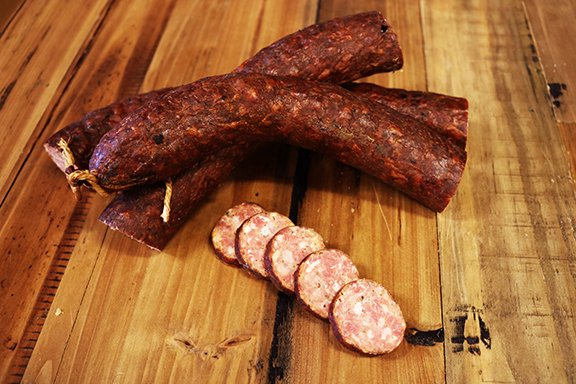curry: (2, 1, 552, 374)
